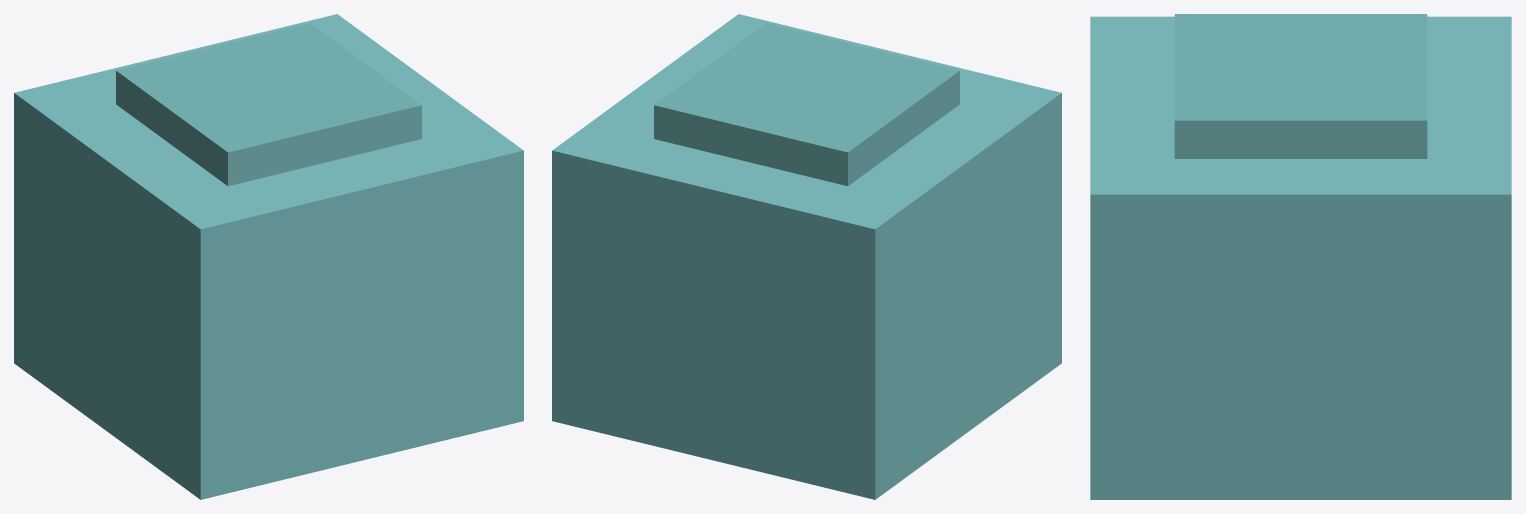
The model's file is assembler.glb.
3 renders of one model, left to right at view 1: azimuth 30°, elevation 25°; view 2: azimuth 150°, elevation 25°; view 3: azimuth 270°, elevation 25°, orthographic. The views are drawn at different scales.
Bounding box in the file's own units: 30 × 27 × 30.
